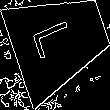L_E: (34, 18, 85, 65)
